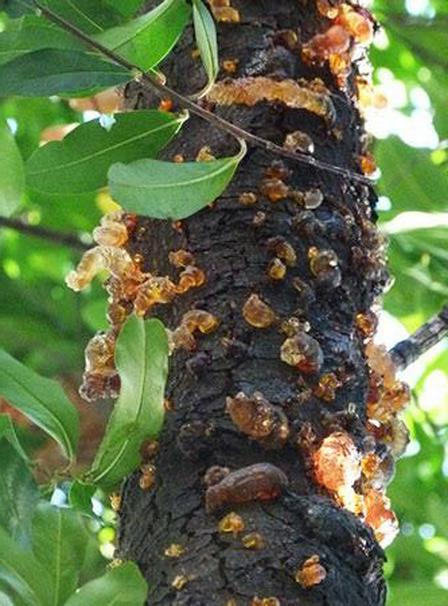gommosis: (66, 211, 204, 400), (207, 76, 333, 116), (313, 432, 364, 517), (205, 463, 288, 512), (226, 392, 289, 448), (364, 490, 398, 548), (367, 378, 409, 422), (171, 309, 217, 349), (281, 332, 323, 373), (302, 24, 349, 59), (335, 7, 371, 42), (366, 342, 394, 386), (309, 249, 340, 286), (383, 417, 409, 459), (243, 294, 275, 327), (295, 555, 326, 588), (317, 373, 341, 401), (207, 0, 239, 20), (261, 178, 288, 201), (280, 316, 309, 337), (285, 131, 313, 152), (355, 311, 377, 337), (219, 512, 244, 534), (276, 239, 296, 265), (139, 463, 155, 490), (242, 532, 265, 549), (140, 439, 158, 460), (268, 258, 285, 278), (171, 574, 192, 590), (164, 543, 185, 557), (196, 146, 214, 161), (362, 154, 376, 173), (251, 596, 280, 605), (239, 193, 256, 205), (222, 59, 237, 72), (159, 98, 172, 111), (253, 211, 265, 225), (174, 154, 184, 162)
